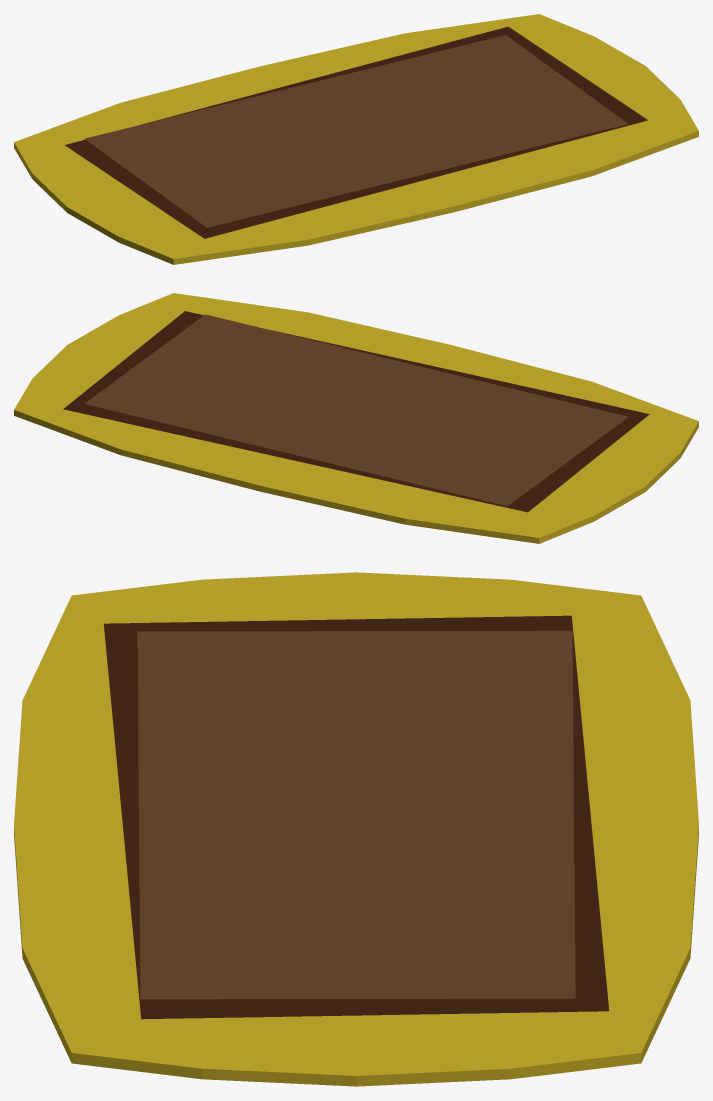
File: Bed Var 3.fbx
3 views of the same model, one above another, from view 1: azimuth 30°, elevation 25°; view 2: azimuth 150°, elevation 25°; view 3: azimuth 270°, elevation 25° (orthographic). The views are drawn at different scales.
Visible parts, largest first — view 1: Bed Var 3; view 2: Bed Var 3; view 3: Bed Var 3.
Boxes of the visible parts, x1=… form: Bed Var 3: x1=14, y1=14, x2=698, y2=264; Bed Var 3: x1=14, y1=293, x2=698, y2=543; Bed Var 3: x1=14, y1=572, x2=698, y2=1086.
Bounding box in the file's own units: 267 × 4.88 × 153.
